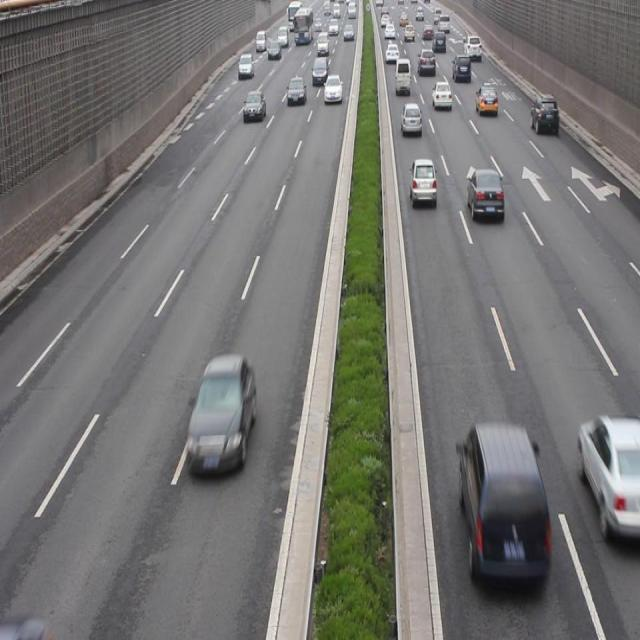car: (187, 357, 256, 479), (577, 414, 640, 539), (466, 172, 504, 222), (408, 158, 434, 208), (530, 95, 558, 134), (399, 102, 421, 135)
truck: (452, 420, 552, 589)
